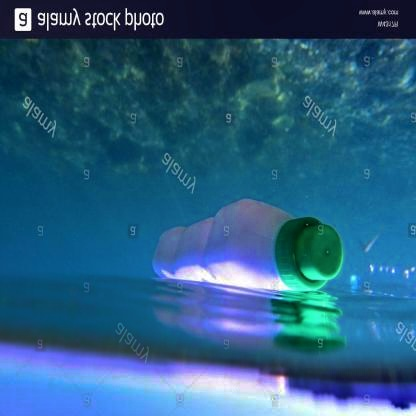pbottle: (146, 187, 343, 297)
